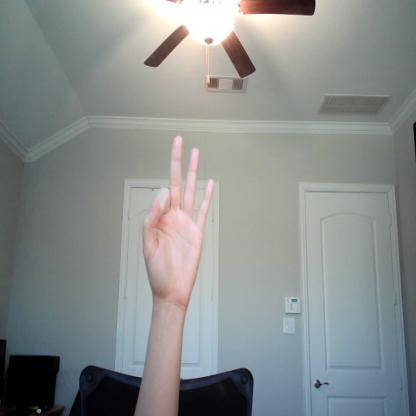nine: (140, 135, 216, 299)
